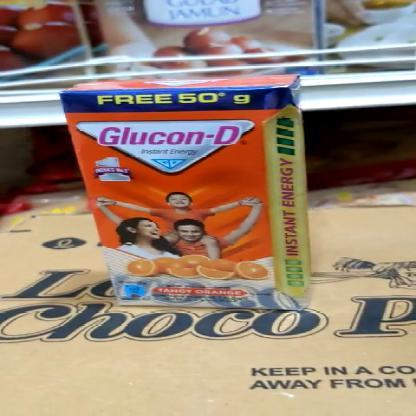Glucon D Tangy orange 1-KG: (96, 88, 285, 306)
